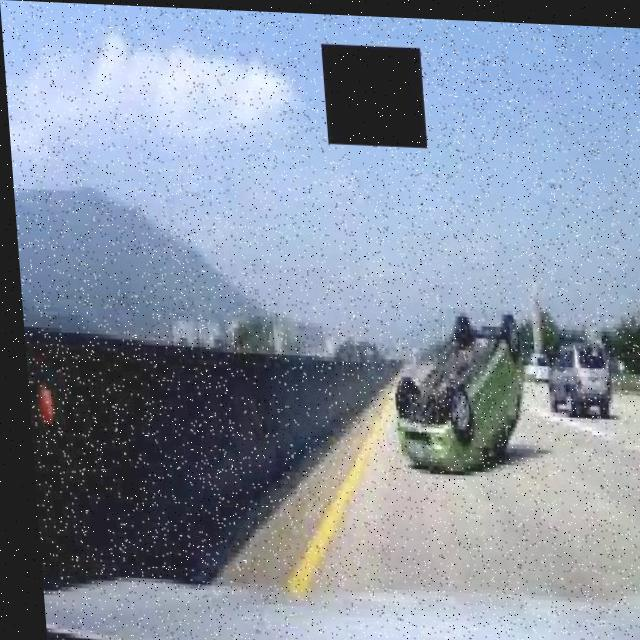normal: (545, 342, 615, 422)
single accident: (383, 306, 533, 486)
